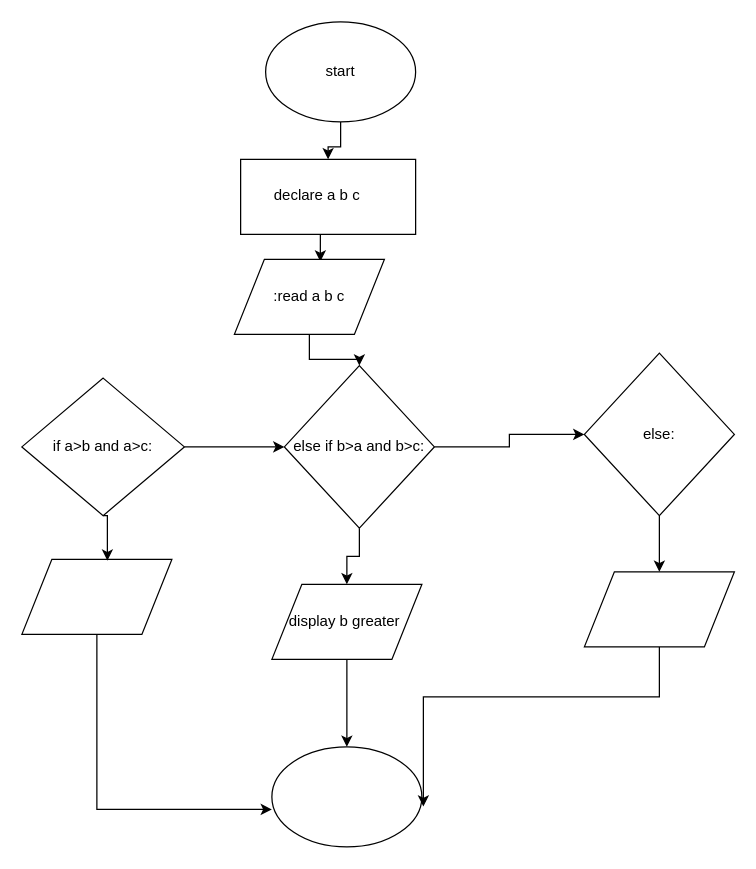
The diagram is 756 pixels wide and 869 high, and some of its shapes have lost their labels. The shapes that lost their labels are listed below. From the top down, each one's centre as x and y in pixels, then its label:
point 96,596: display a greater
point 658,609: display c greater
point 346,796: stop
